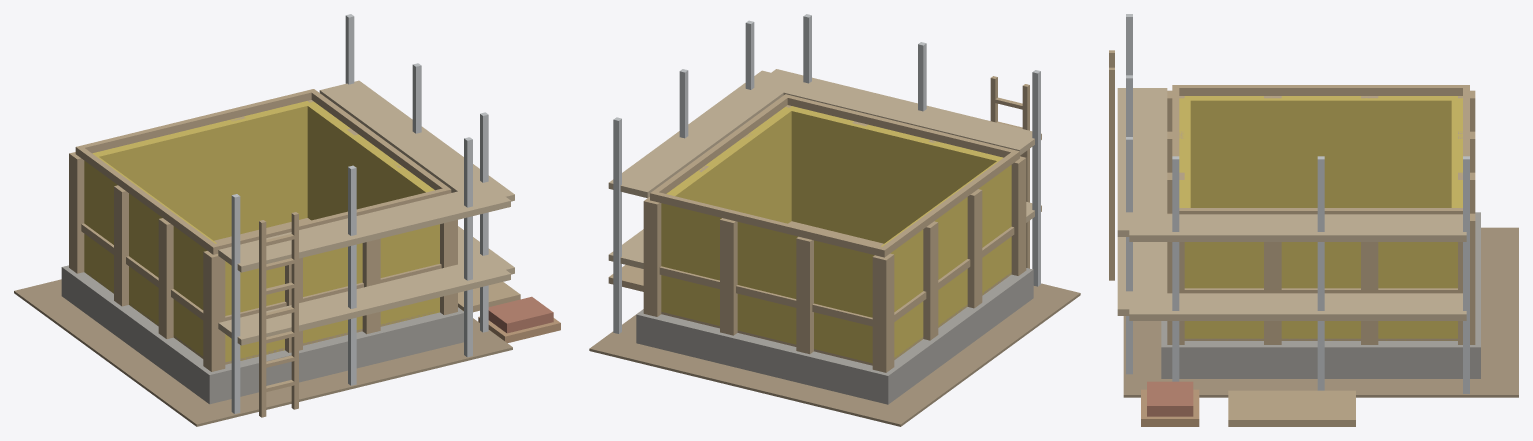
The model's file is beehive_site_9.glb.
3 renders of one model, left to right at view 1: azimuth 30°, elevation 25°; view 2: azimuth 150°, elevation 25°; view 3: azimuth 270°, elevation 25°, orthographic. The views are drawn at different scales.
Visible parts, largest first — view 1: body; view 2: body; view 3: body.
Boxes of the visible parts, <box> form: body: <box>14,14,560,426</box>; body: <box>589,14,1080,426</box>; body: <box>1109,14,1518,426</box>.
Bounding box in the file's own units: 1.6 × 0.9 × 1.41.
